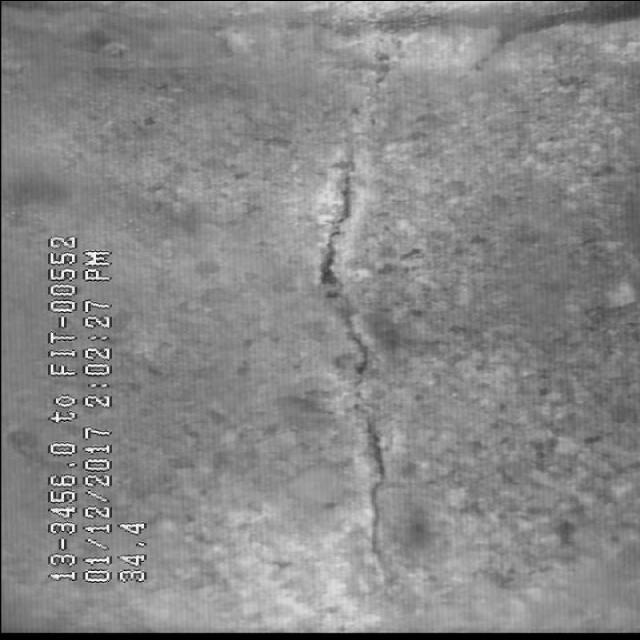Crack: (282, 127, 426, 567)
